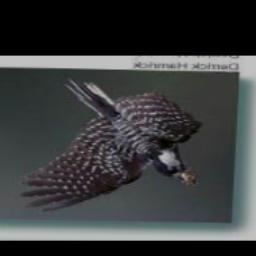Woodpecker: (12, 79, 214, 221)
